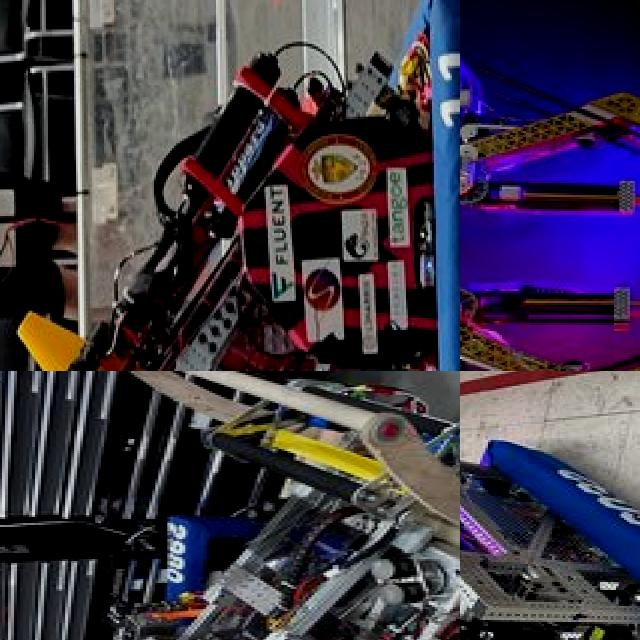FRC-Robots: (0, 0, 460, 371), (80, 376, 460, 640), (460, 0, 640, 243), (460, 399, 640, 640), (460, 232, 640, 371)
